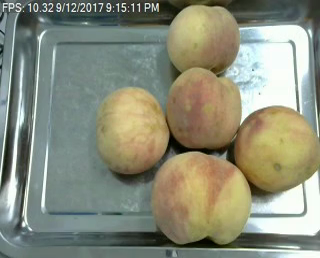Peach: (150, 151, 252, 246), (235, 104, 320, 193), (94, 84, 168, 175), (167, 66, 242, 151), (167, 4, 241, 76)
